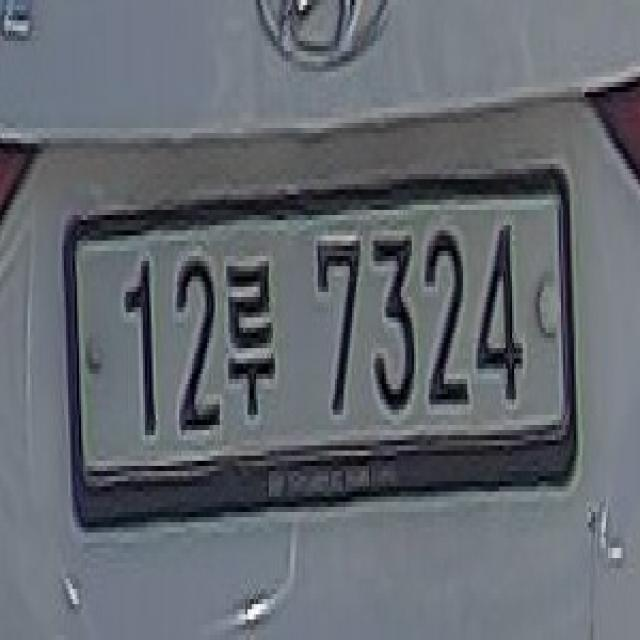1: (120, 247, 160, 450)
2: (423, 218, 472, 412), (172, 256, 222, 443)
3: (372, 222, 418, 416)
4: (474, 217, 526, 414)
7: (314, 225, 362, 431)
license_plate: (58, 168, 574, 522)
lu: (226, 245, 284, 434)
